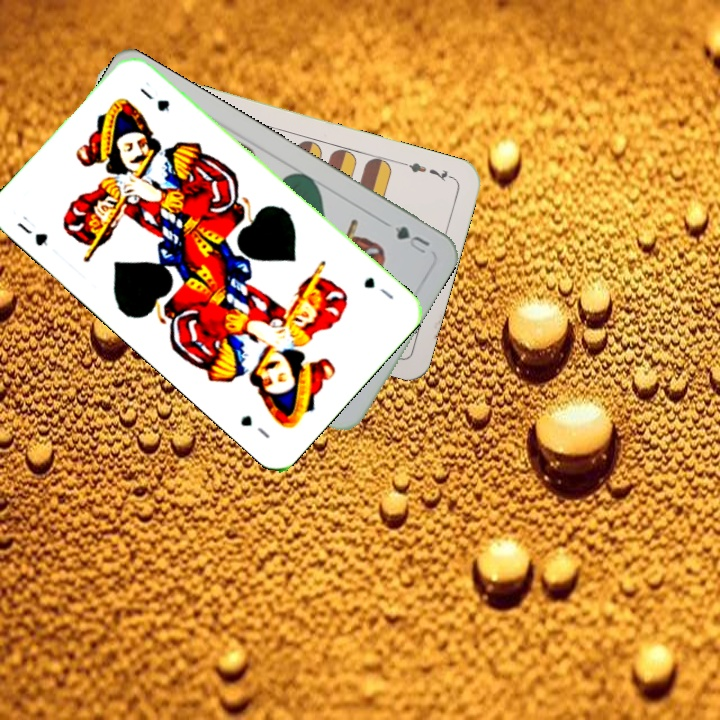E7: (398, 158, 456, 184)
GU: (390, 222, 433, 257), (12, 211, 51, 249), (359, 272, 397, 302)
